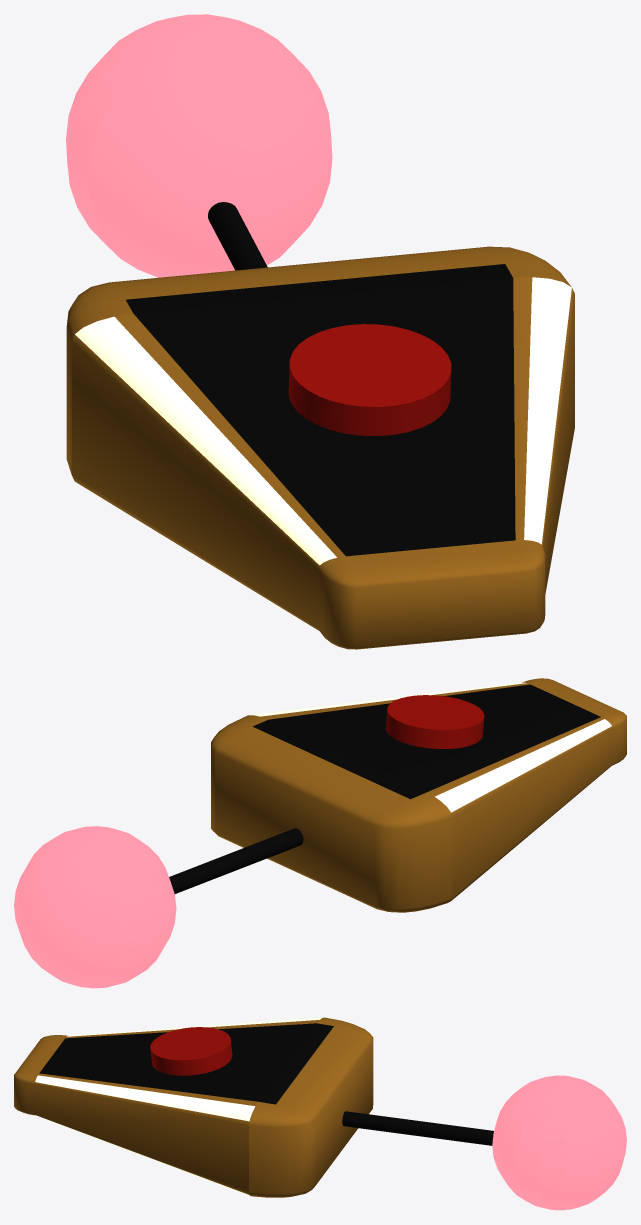
The model's file is Teleporte.fbx.
3 renders of one model, top to bottom at view 1: azimuth 30°, elevation 25°; view 2: azimuth 150°, elevation 25°; view 3: azimuth 270°, elevation 25°, orthographic. The views are drawn at different scales.
Parts seen in each view (by area): view 1: Cube; view 2: Cube; view 3: Cube.
Part boxes in pixels (x1,y1,x2,y2): Cube: [66, 14, 574, 649]; Cube: [14, 678, 626, 988]; Cube: [14, 1017, 626, 1210].
Bounding box in the file's own units: 419 × 200 × 906.
